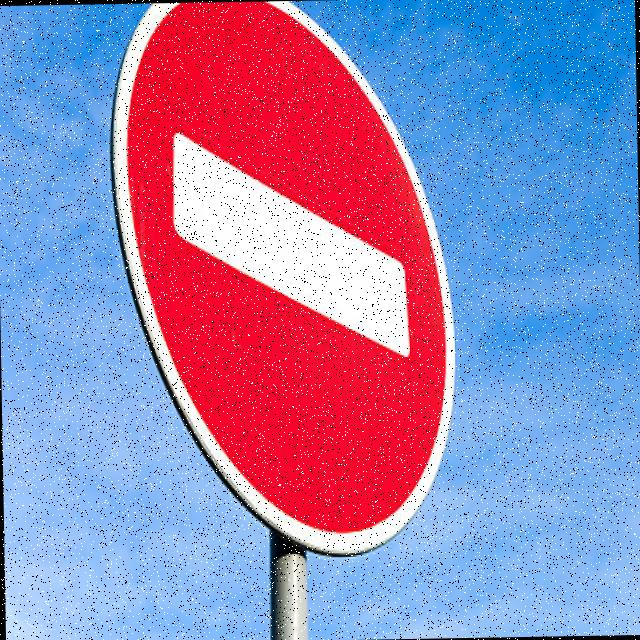do_not_enter: (102, 0, 467, 569)
